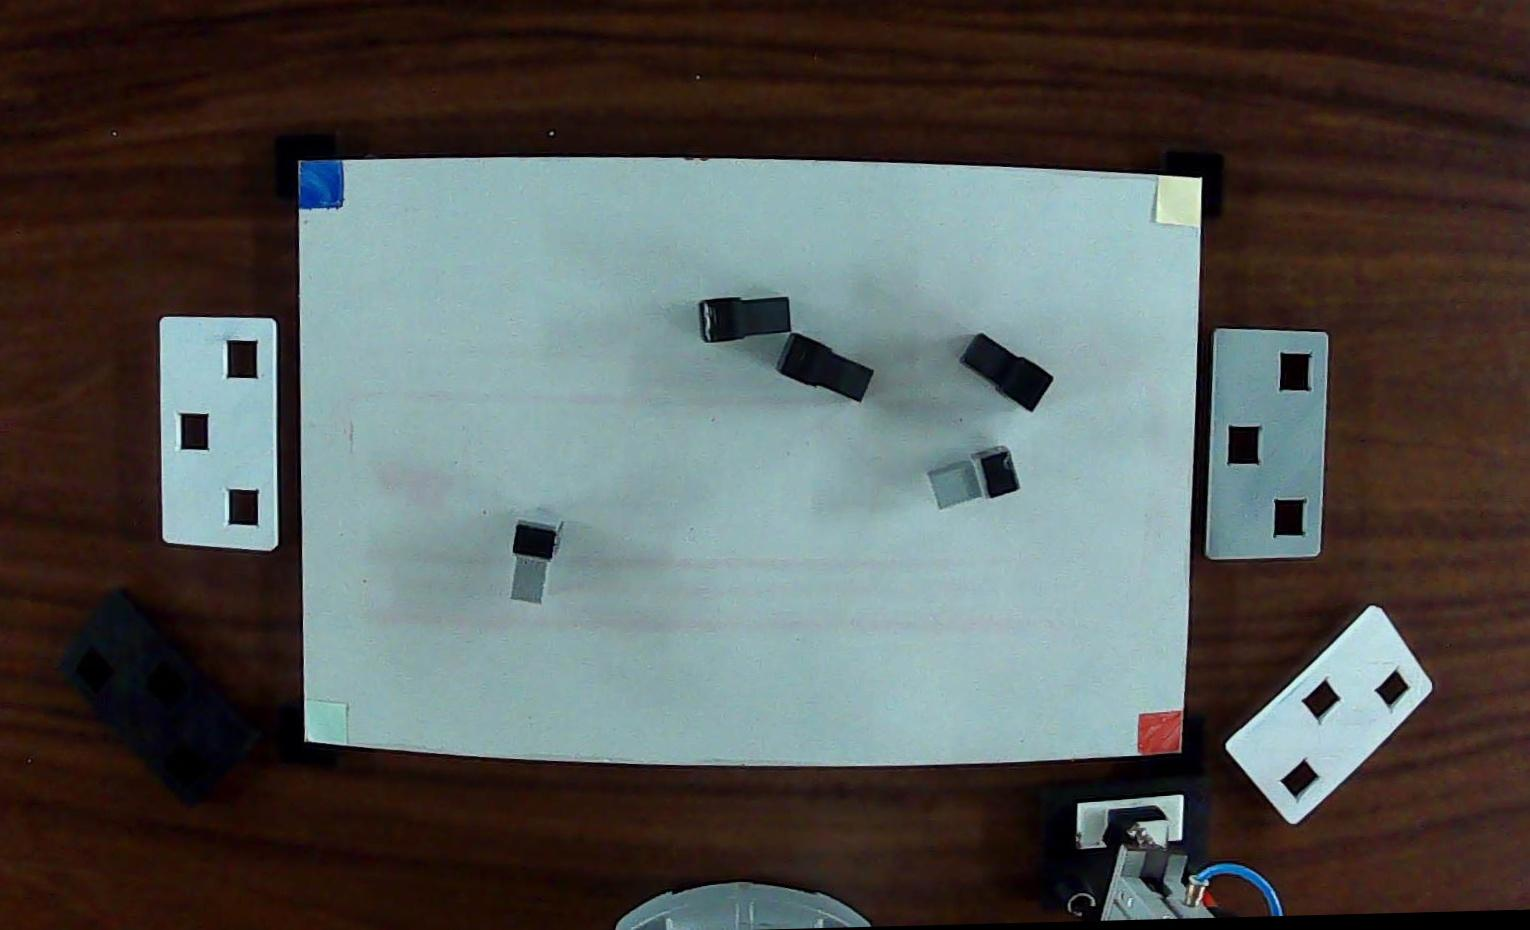pecaCinzaCaida: (919, 442, 1032, 513), (504, 510, 565, 610)
pecaPretaCaida: (956, 325, 1066, 417), (775, 323, 882, 410), (693, 292, 811, 346)
